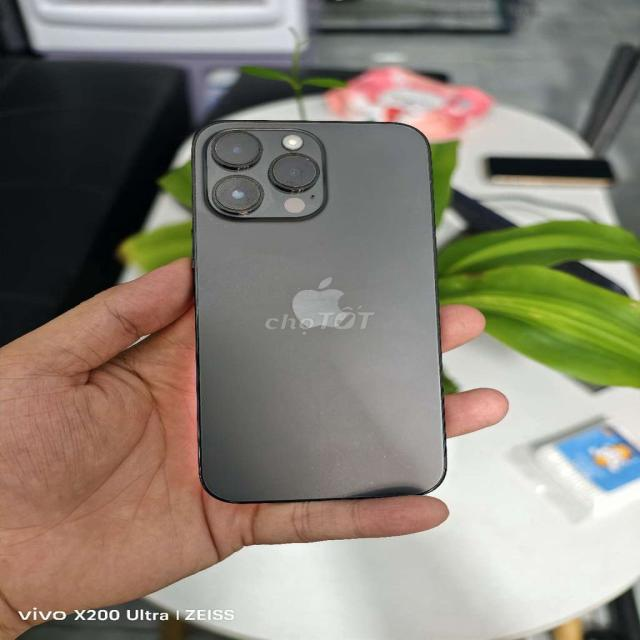scratch: (213, 172, 270, 218), (272, 150, 324, 193), (378, 452, 398, 469), (332, 462, 347, 470), (308, 464, 320, 471)
